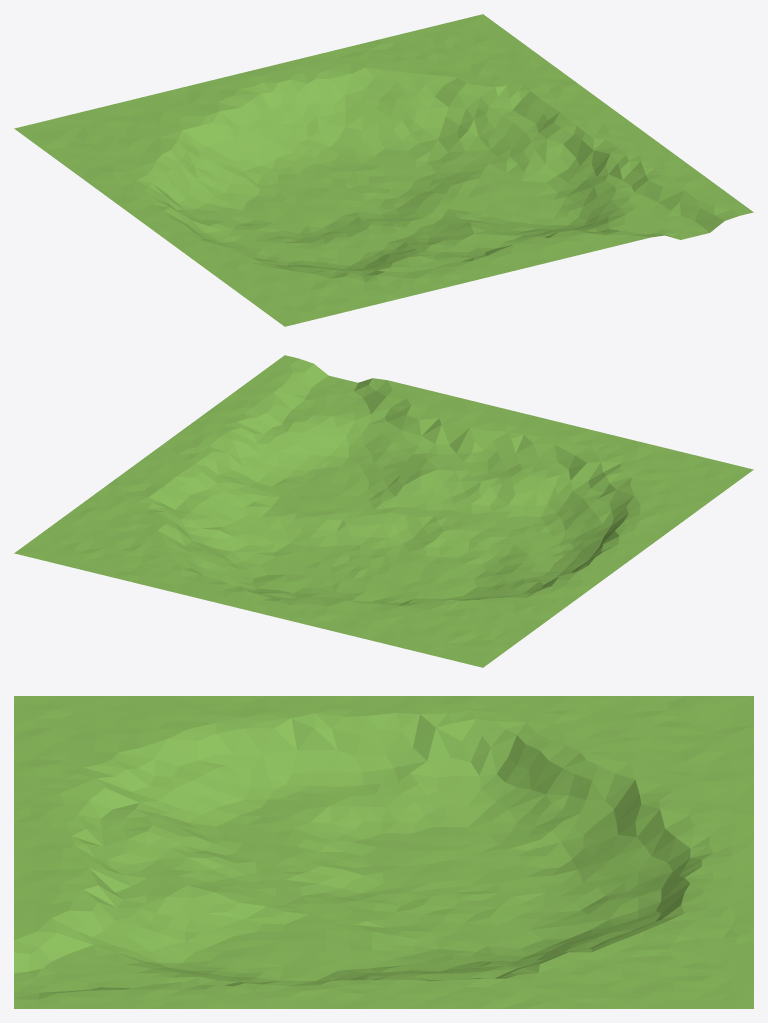
The model's file is MT_River_End_L_a_01_R.fbx.
3 views of the same model, one above another, from view 1: azimuth 30°, elevation 25°; view 2: azimuth 150°, elevation 25°; view 3: azimuth 270°, elevation 25° (orthographic). The views are drawn at different scales.
Parts seen in each view (by area): view 1: MT_River_End_L_a_01_R; view 2: MT_River_End_L_a_01_R; view 3: MT_River_End_L_a_01_R.
Boxes of the visible parts, x1,y1,x2,y2 form: MT_River_End_L_a_01_R: [14, 14, 753, 326]; MT_River_End_L_a_01_R: [14, 355, 753, 667]; MT_River_End_L_a_01_R: [14, 696, 753, 1008].
Bounding box in the file's own units: 100 × 7.32 × 100.
